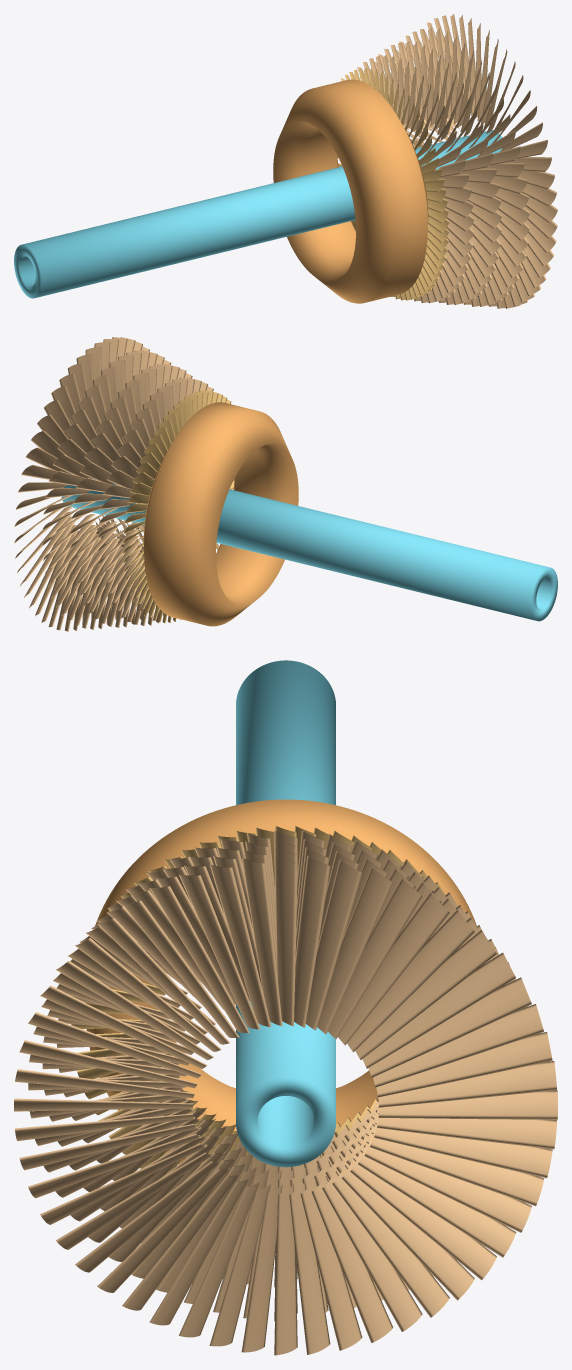
The model's file is L3_hpt_combustor.glb.
3 views of the same model, one above another, from view 1: azimuth 30°, elevation 25°; view 2: azimuth 150°, elevation 25°; view 3: azimuth 270°, elevation 25° (orthographic). The views are drawn at different scales.
Visible parts, largest first — view 1: lpt_4stage_low_pressure_turbine, double_annular_combustor_liner, n1_n2_concentric_drive_shaft_core, hpt_single_stage_cooled_rotor_72blades; view 2: lpt_4stage_low_pressure_turbine, double_annular_combustor_liner, n1_n2_concentric_drive_shaft_core, hpt_single_stage_cooled_rotor_72blades; view 3: lpt_4stage_low_pressure_turbine, n1_n2_concentric_drive_shaft_core, double_annular_combustor_liner, hpt_single_stage_cooled_rotor_72blades.
Part boxes in pixels (<box>): lpt_4stage_low_pressure_turbine: <box>353,14,557,308</box>; double_annular_combustor_liner: <box>273,79,428,303</box>; n1_n2_concentric_drive_shaft_core: <box>14,130,502,298</box>; hpt_single_stage_cooled_rotor_72blades: <box>337,67,449,300</box>; lpt_4stage_low_pressure_turbine: <box>14,337,213,631</box>; double_annular_combustor_liner: <box>143,402,298,626</box>; n1_n2_concentric_drive_shaft_core: <box>61,473,557,621</box>; hpt_single_stage_cooled_rotor_72blades: <box>122,390,234,623</box>; lpt_4stage_low_pressure_turbine: <box>14,830,557,1355</box>; n1_n2_concentric_drive_shaft_core: <box>236,660,335,1167</box>; double_annular_combustor_liner: <box>86,799,476,1164</box>; hpt_single_stage_cooled_rotor_72blades: <box>71,825,445,1172</box>.
Bounding box in the file's own units: 2.75 × 1.52 × 1.52.
